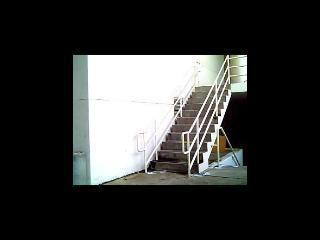Escaleras: (140, 82, 231, 171), (213, 151, 246, 175)
